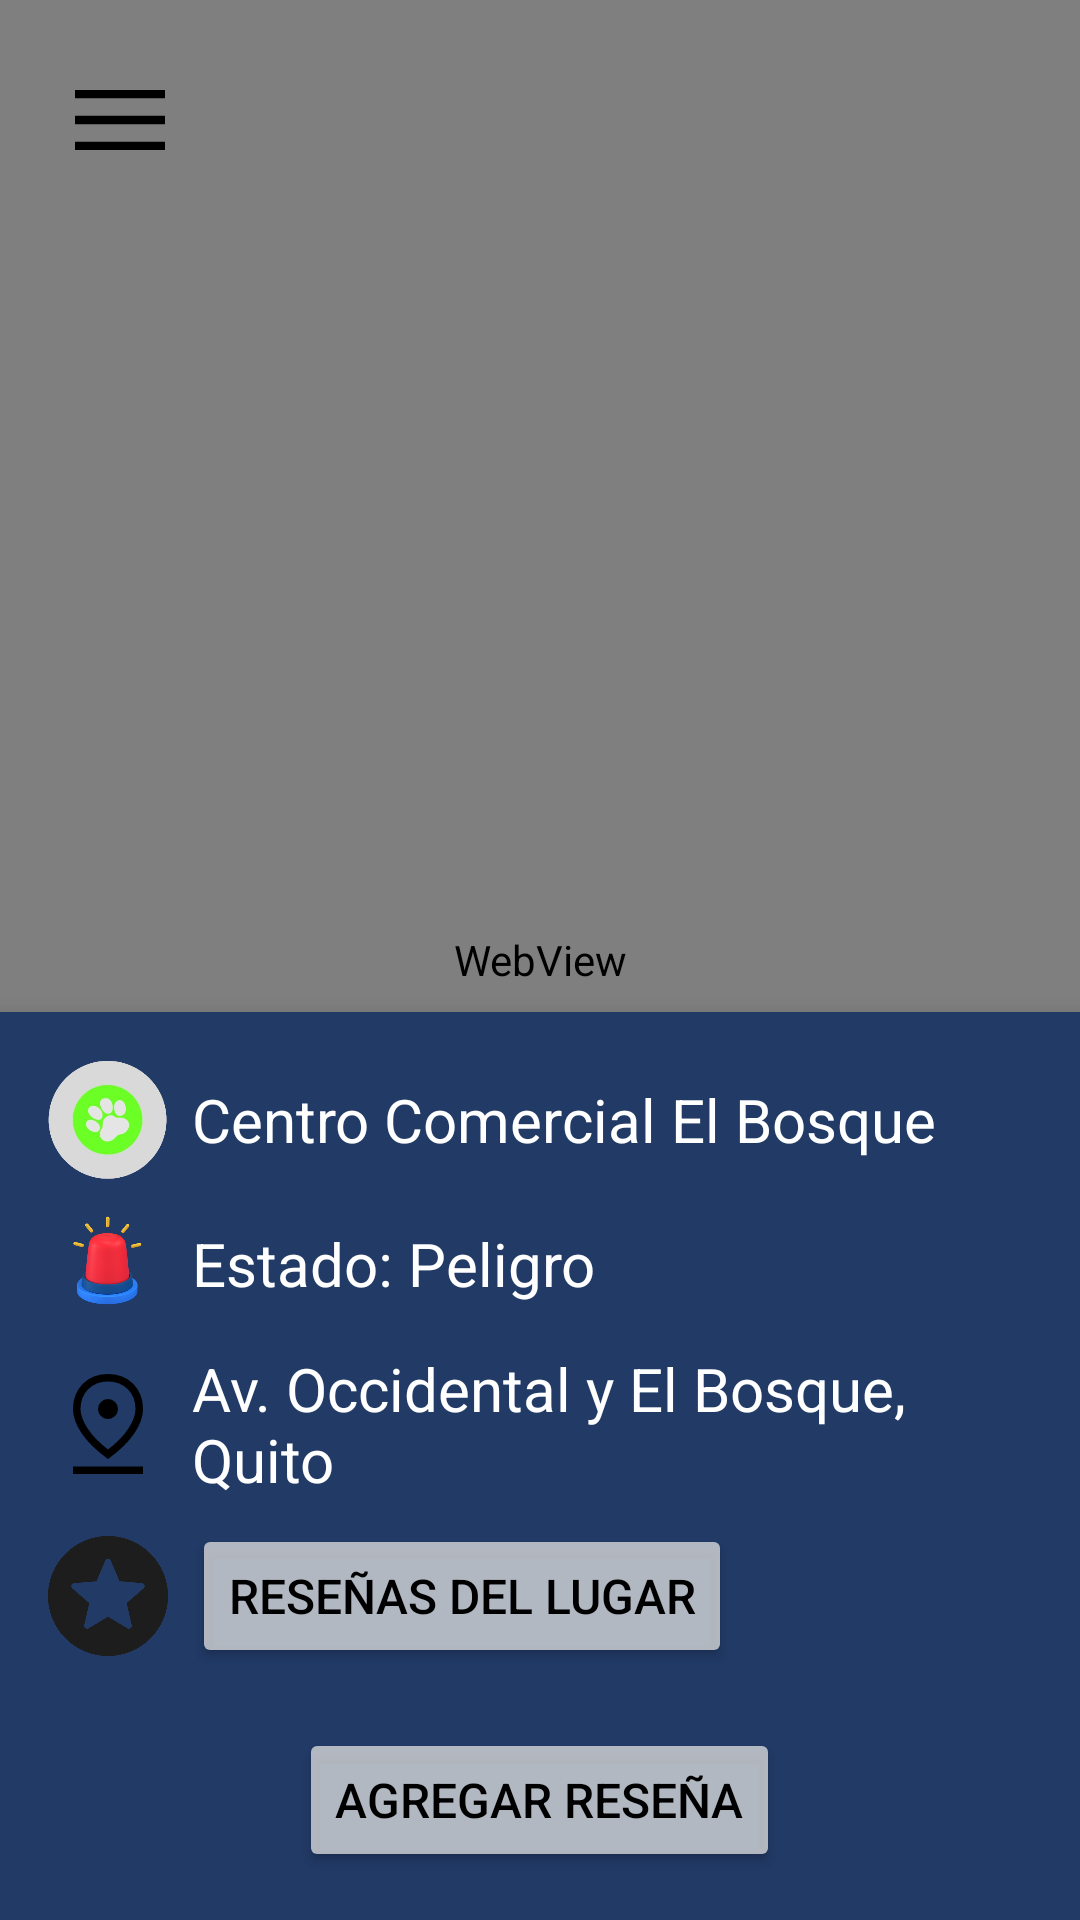

Named icons in this screenshot (1080*1920) and their bounding boxes, box(x1, y1, x2, y2):
Dirección: box(73, 1374, 143, 1474)
Menú: box(75, 90, 165, 150)
